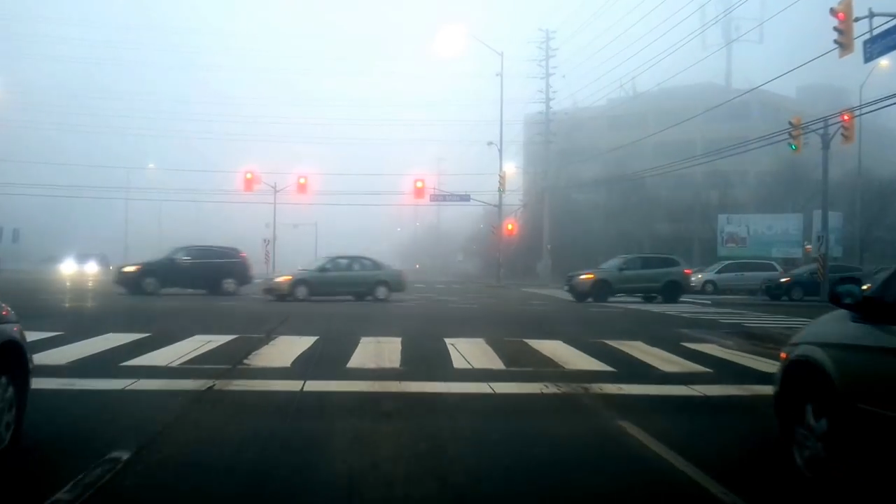car: (772, 256, 896, 502), (112, 242, 254, 297), (263, 252, 408, 302), (564, 251, 690, 304), (760, 261, 871, 302), (686, 258, 789, 297), (58, 249, 112, 281)
